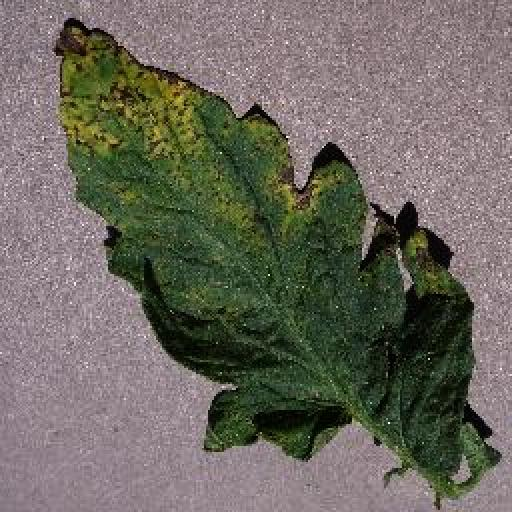disease_tomato: (54, 14, 476, 496)
